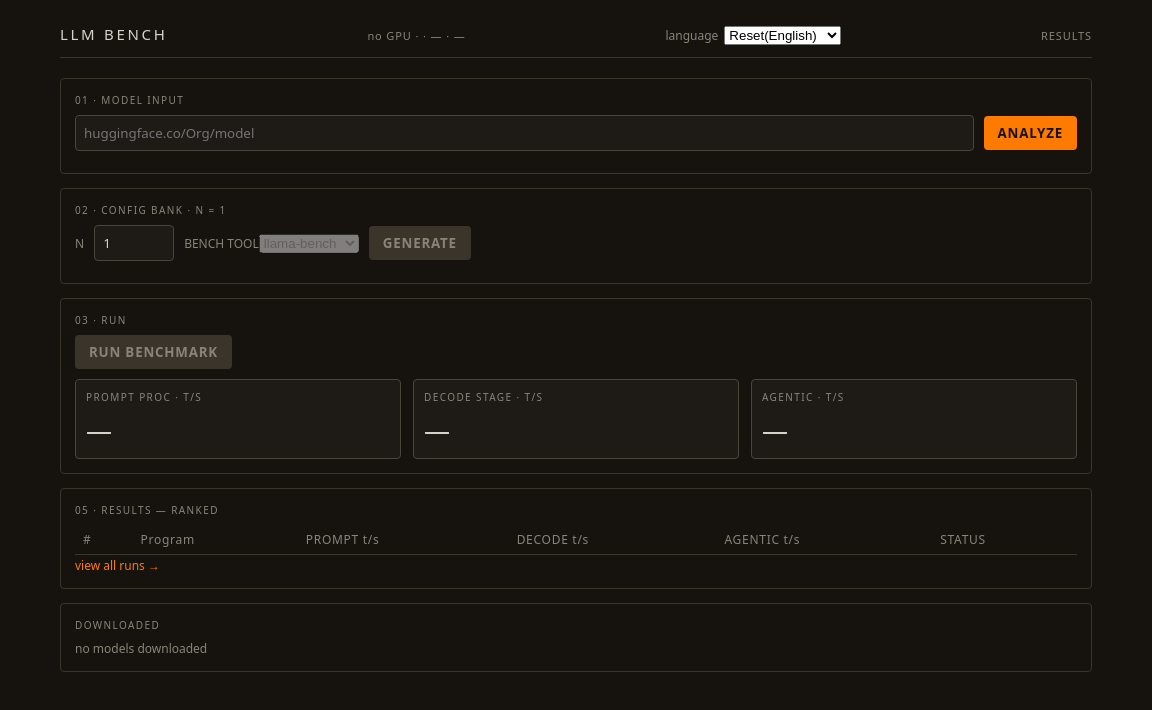
download for direct file link passes the single gguf filename in gguf_filenames
The width and height of the screenshot is (1152, 710).
Type "https://huggingface.co/org/model/resolve/main/model.Q4_K_M.gguf" into the field with placeholder "huggingface.co/Org/model" at (524, 133), box [75,115,974,151]
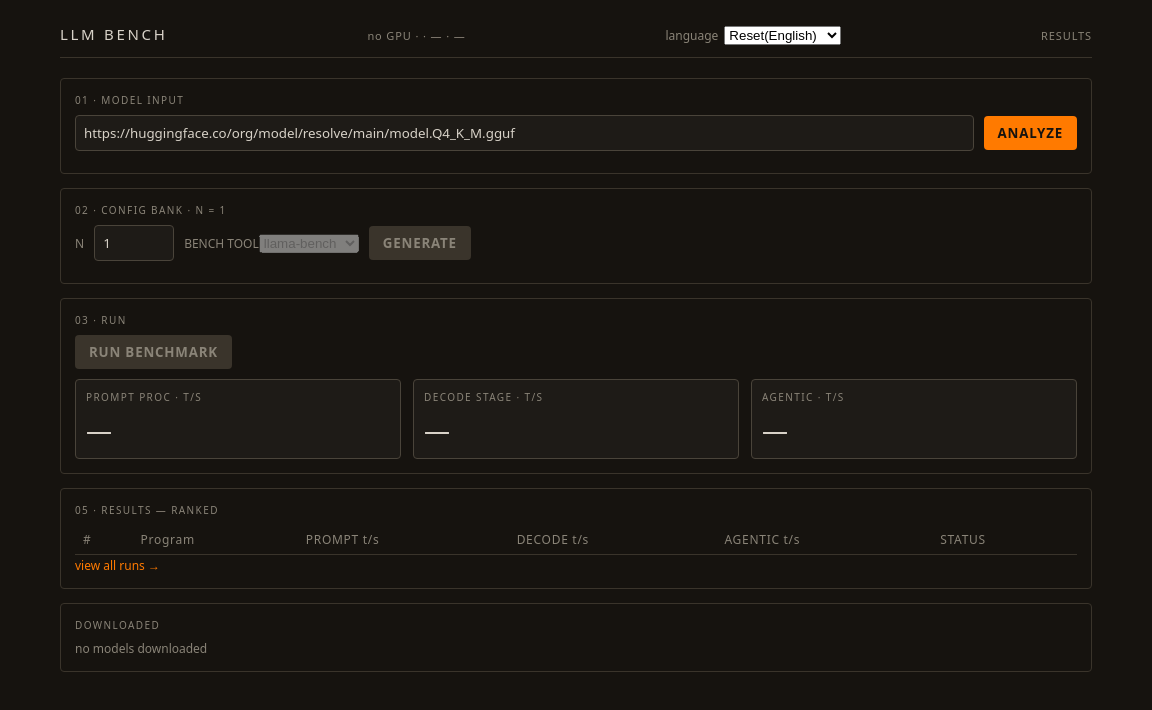
Click the button "ANALYZE" at (1030, 133), box [984,116,1077,150]
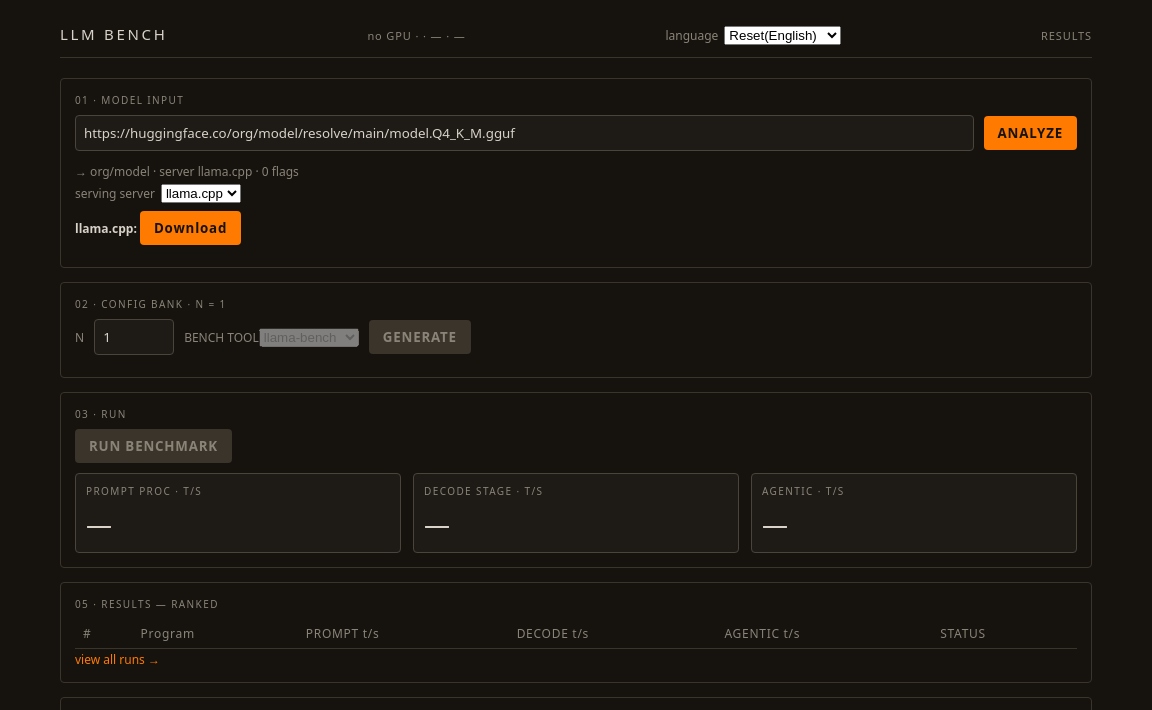
Now the text "→ org/model · server llama.cpp · 0 flags" is shown, box [75,163,299,180]
Click the button "Download" at (190, 228), box [140,211,241,245]
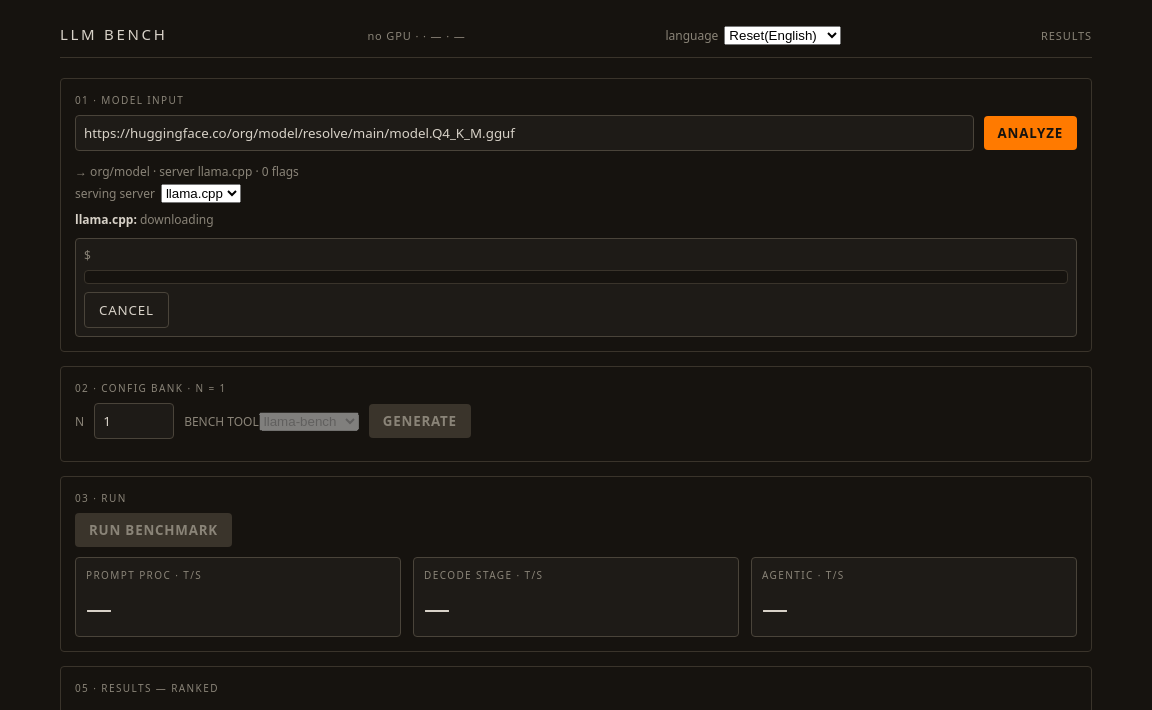
Now the text "downloading" is shown, box [140,211,214,228]
